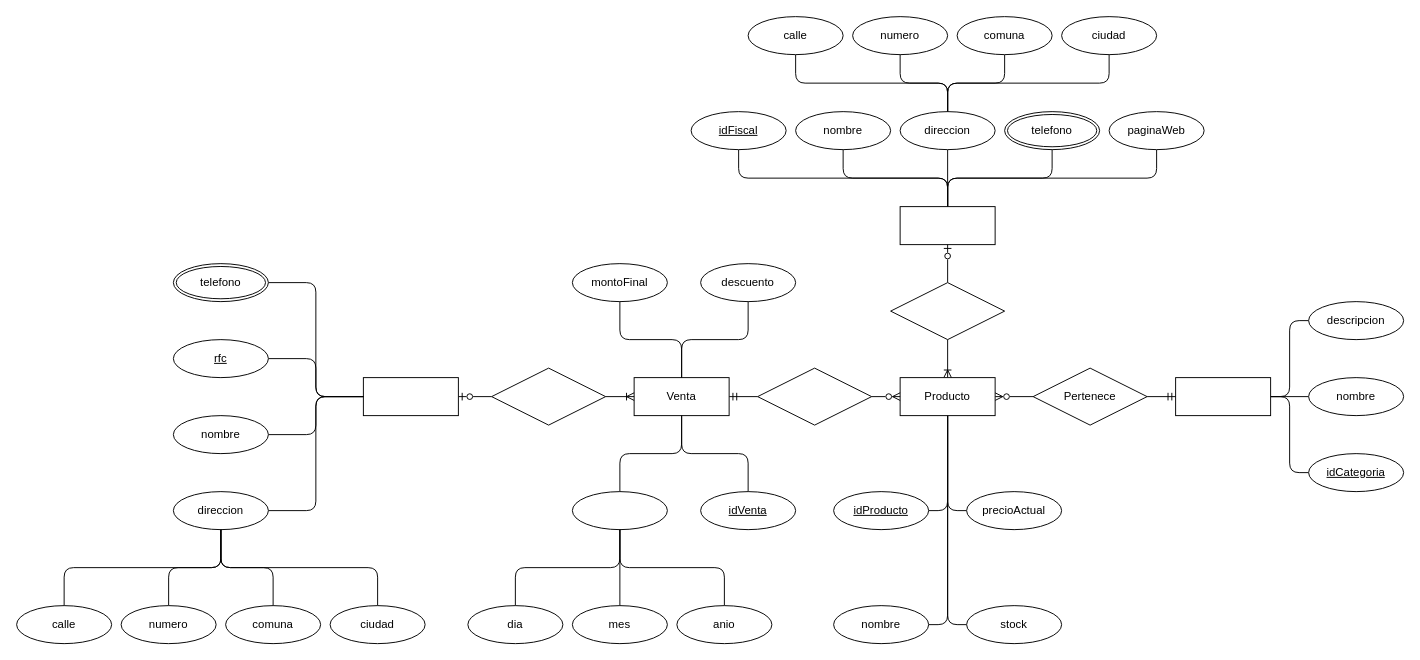
Some shapes in this 1420 by 660 pixel diagram are drawn without their labels. Here are the shapes that lost their labels. From the top down, the box of each, then its label:
(899, 206, 995, 245): Proveedor
(890, 282, 1005, 340): Distribuye
(362, 377, 458, 416): Cliente
(491, 367, 606, 425): Genera
(757, 367, 872, 425): Contiene
(1175, 377, 1271, 416): Categoria
(571, 491, 667, 530): fecha
